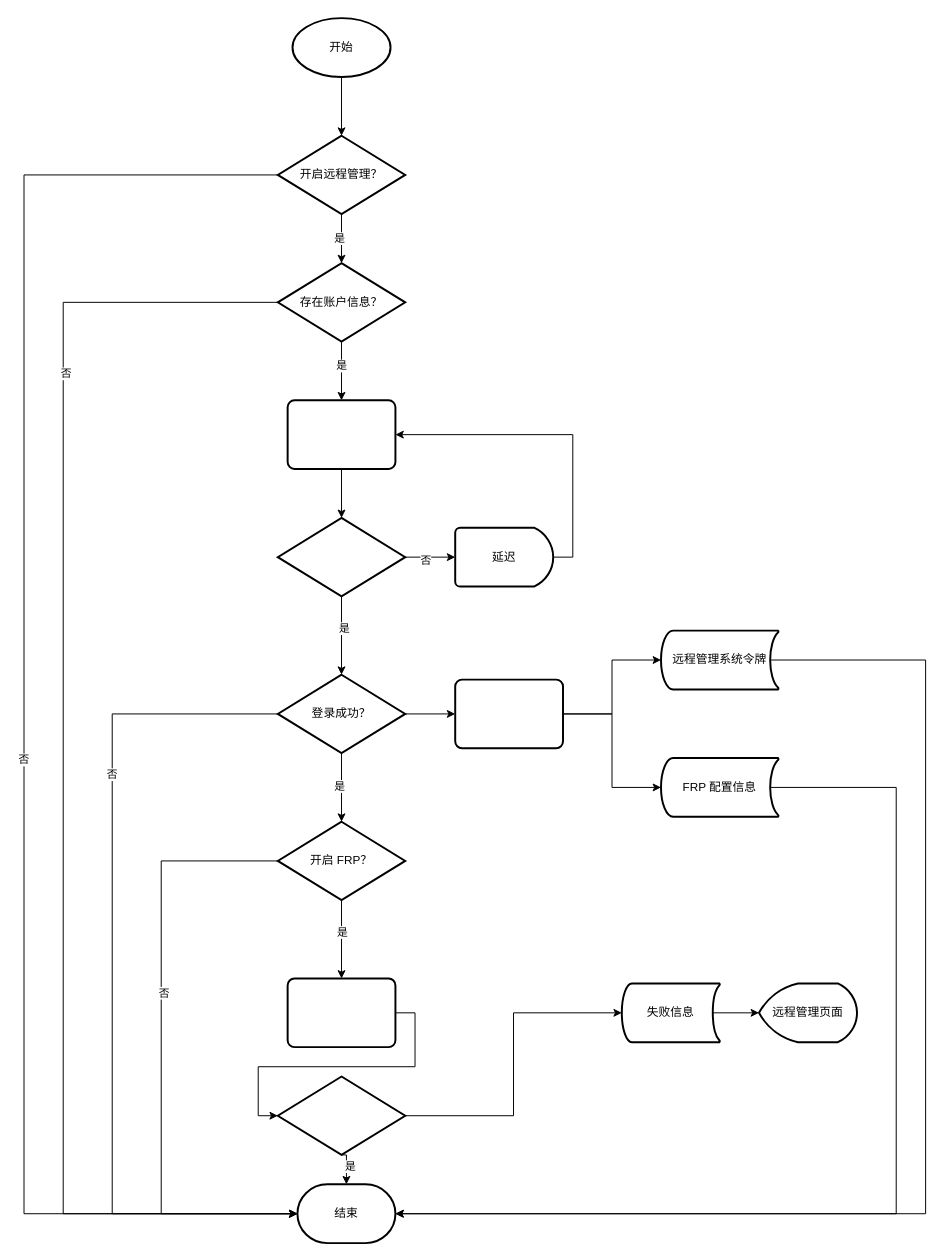
This 951x1260 diagram has some shape labels left out. The centre of each missing label's shape, as x and y in pixels:
"存储响应信息" belongs at point 509,713.
"开启 FRP 功能" belongs at point 341,1012.
"开启成功？" belongs at point 341,1115.
"登录远程管理系统" belongs at point 341,434.
"请求成功？" belongs at point 341,556.
